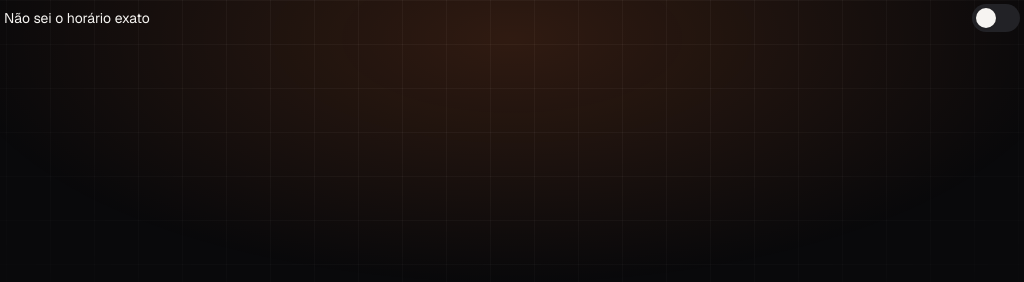
Test: Switch › expõe papel de switch e alterna o estado
Click the switch labelled "Não sei o horário exato". click: coordinates (77, 18)
box: 0,0 -> 1023,36
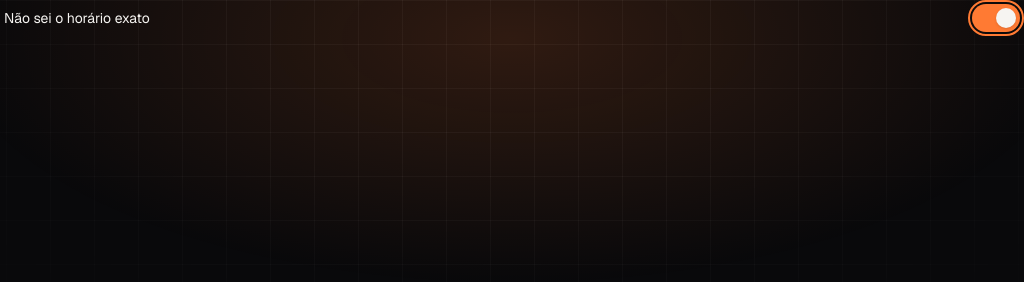
Expected: the switch labelled "Não sei o horário exato" is checked, 0,0 -> 1023,36
